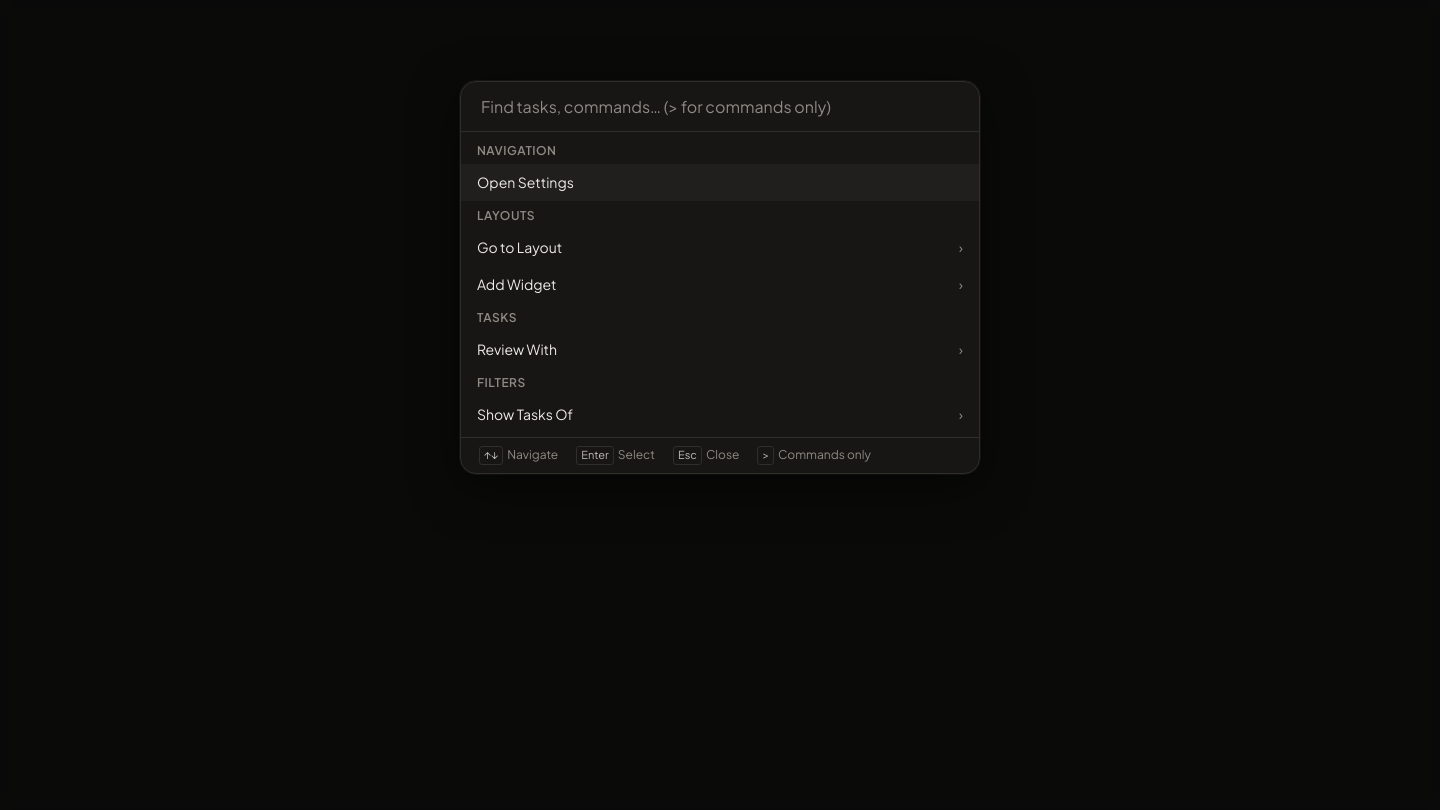
Scenario: CommandPalette — second steps › a step’s groups have their headings (Add Widget ›: Tasks, Insights)
The image size is (1440, 810).
Step 1. Click the option "Add Widget ›" → (517, 284), box x1=477 y1=275 x2=963 y2=293
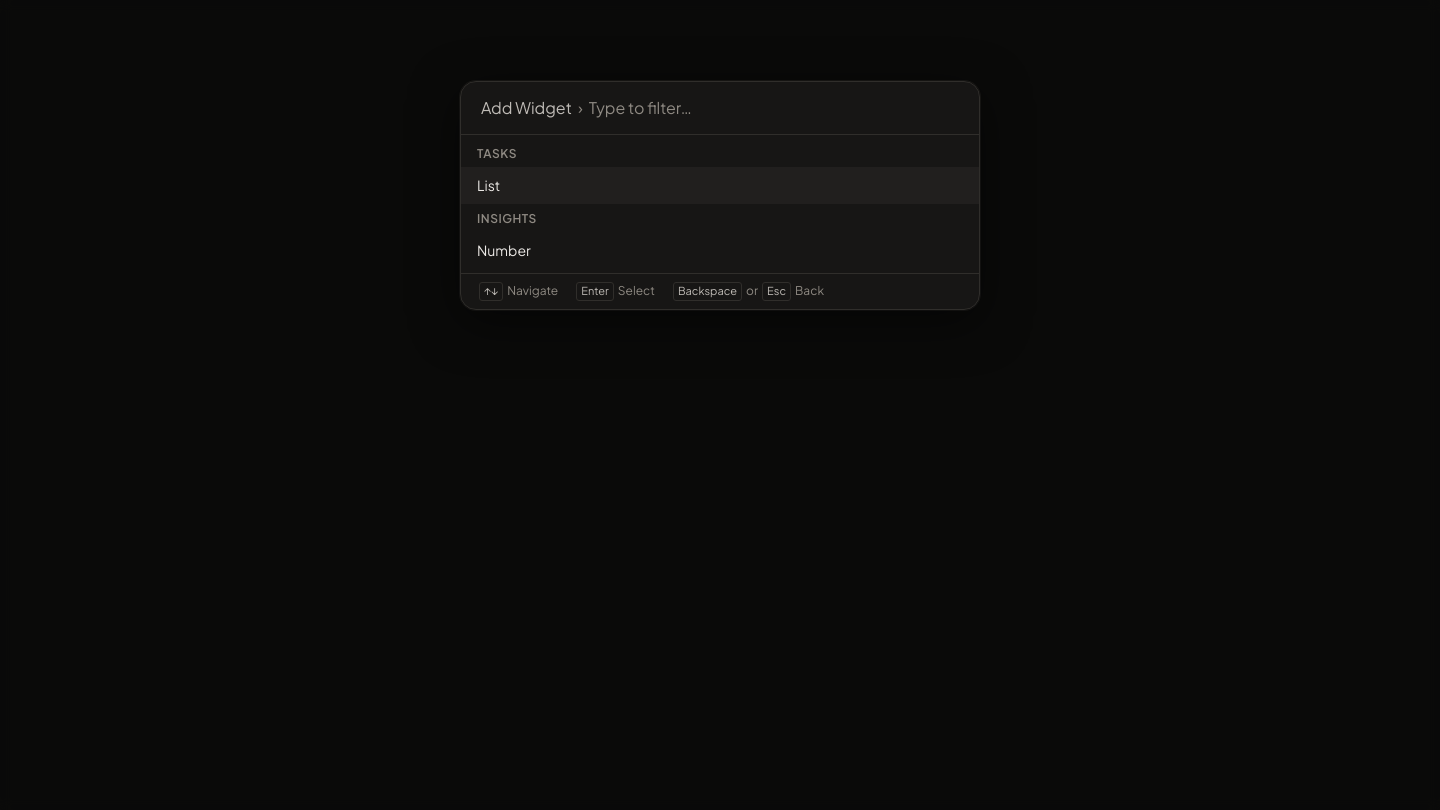
Check: the element "Tasks" shows "List", box x1=477 y1=176 x2=500 y2=194
Check: the element "Insights" shows "Number", box x1=477 y1=241 x2=531 y2=259
